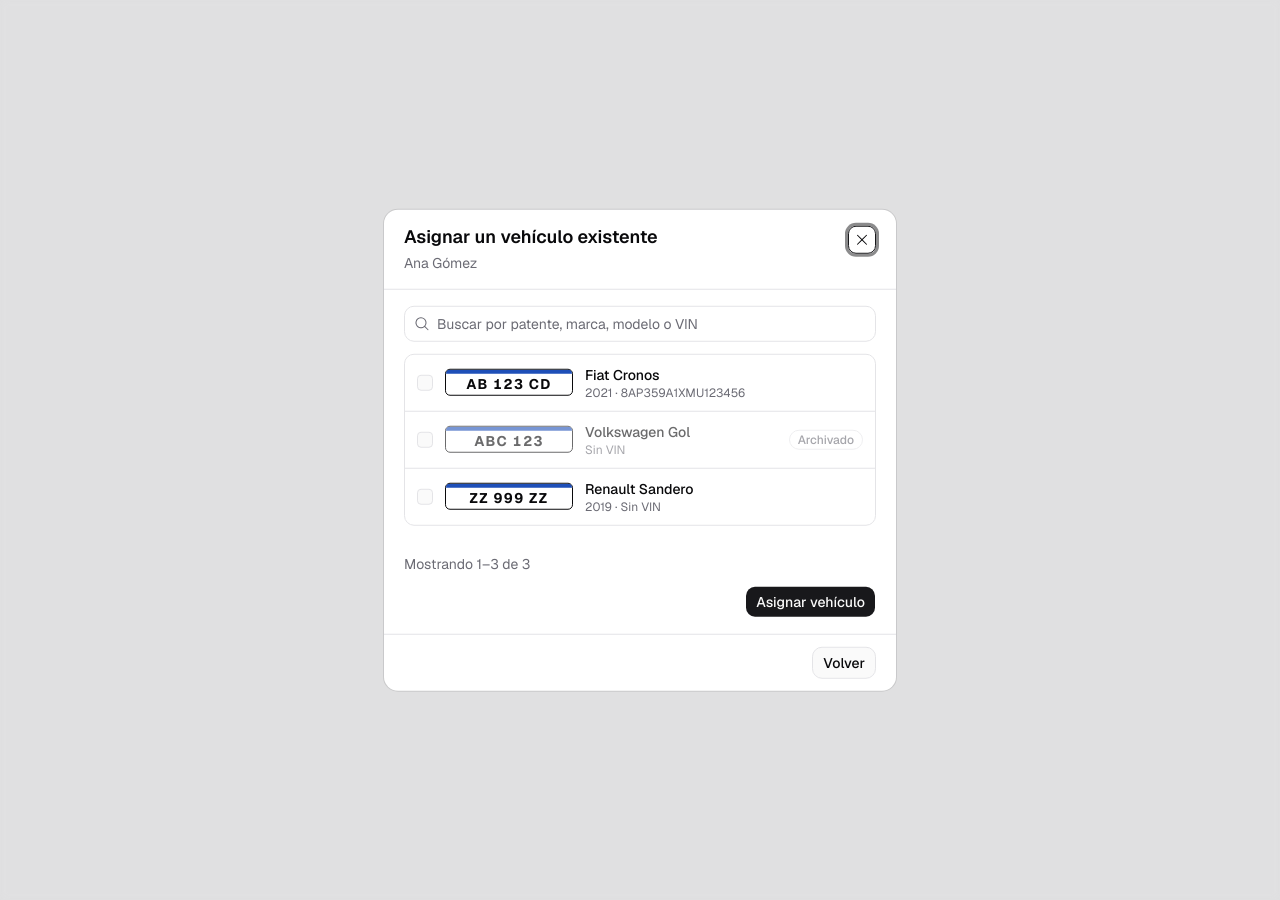
Test case: ClientModal: assign vehicles › assigns the rest and stays, with a message and a fresh list, when some already had a client
Click the checkbox named "AB 123 CD Fiat Cronos" next to "AB 123 CD" at x=425, y=382, box [417, 374, 433, 390]
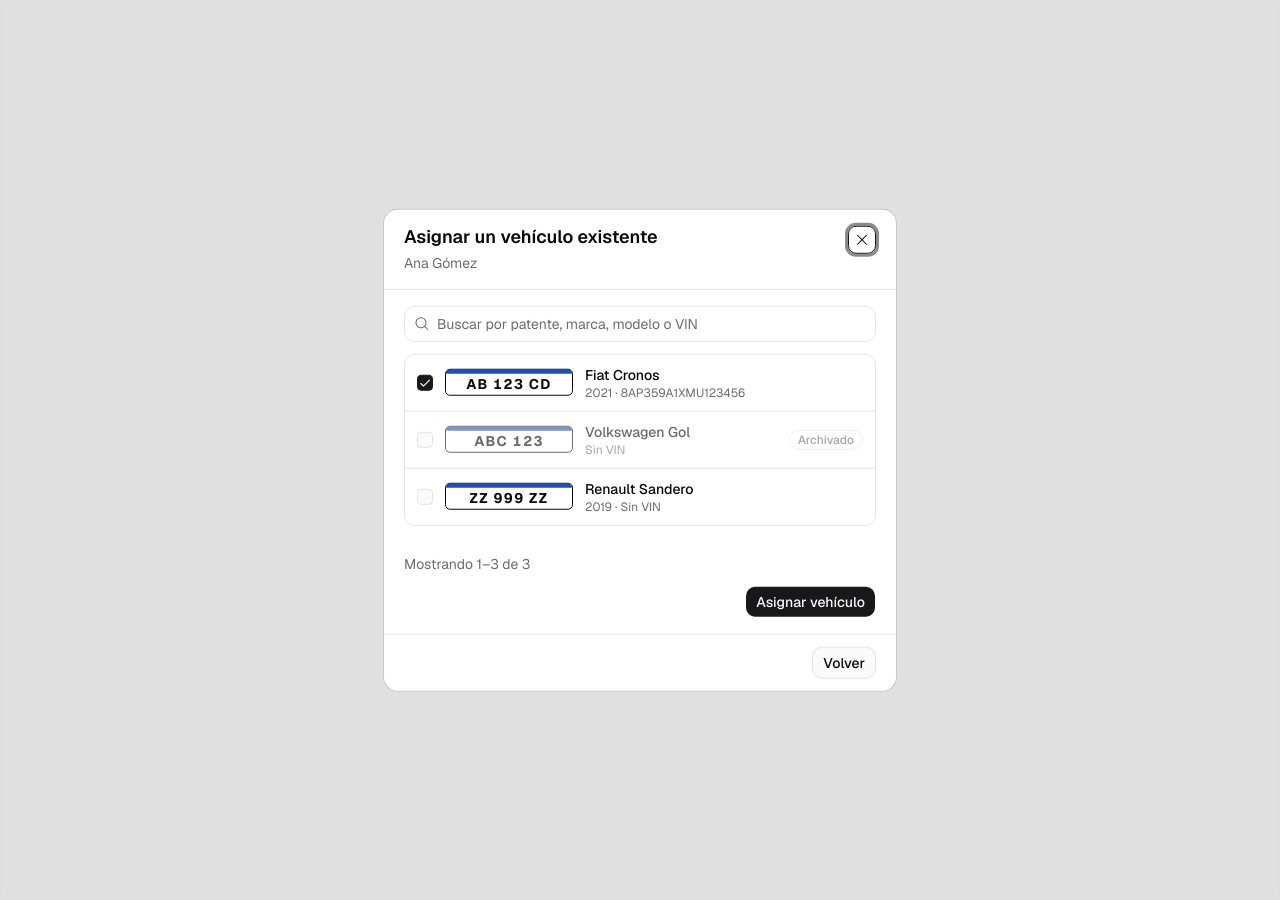
Click the checkbox named "ABC 123 Volkswagen Gol" next to "ABC 123" at x=425, y=439, box [417, 431, 433, 447]
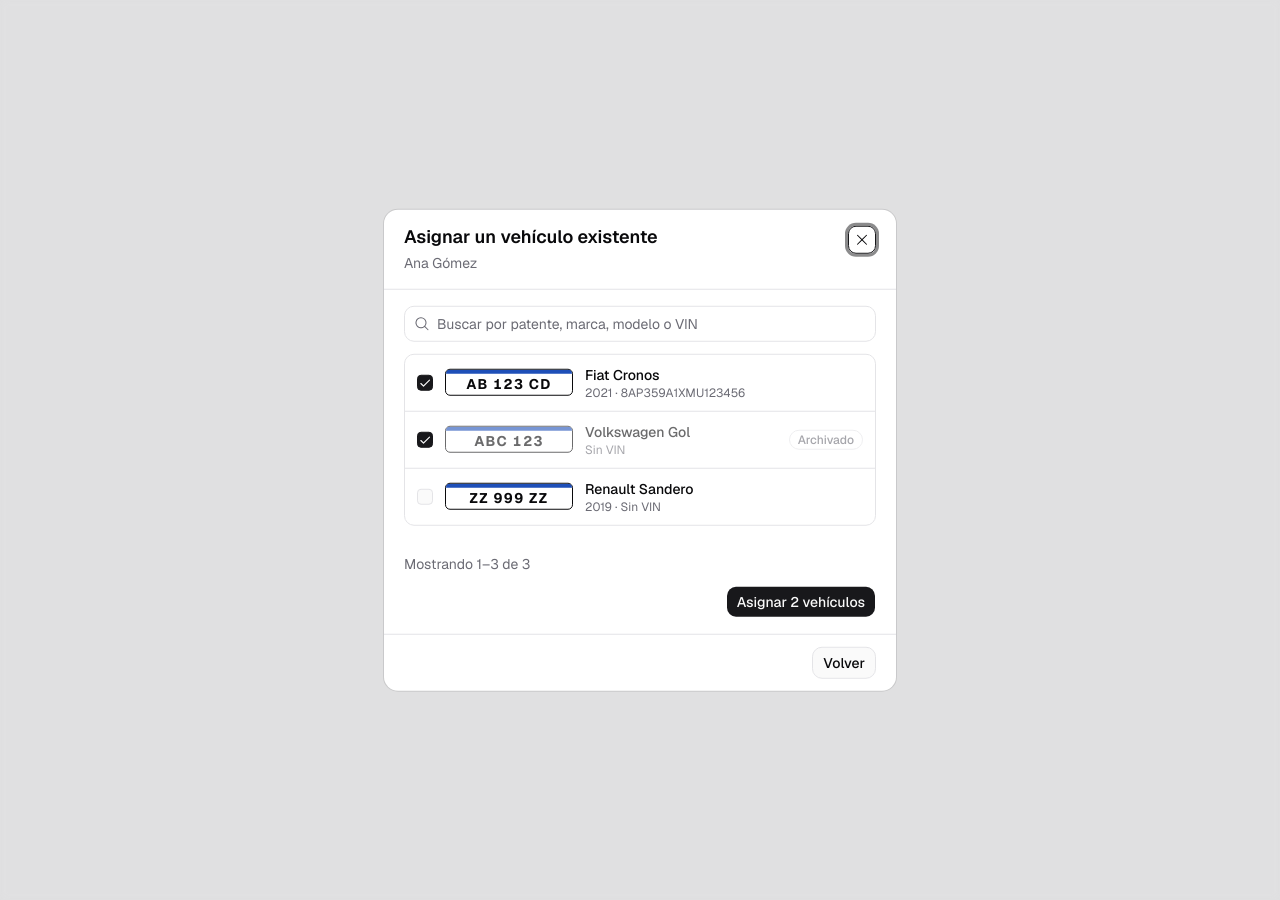
Click the button "Asignar 2 vehículos" at x=801, y=601, box [726, 585, 876, 617]
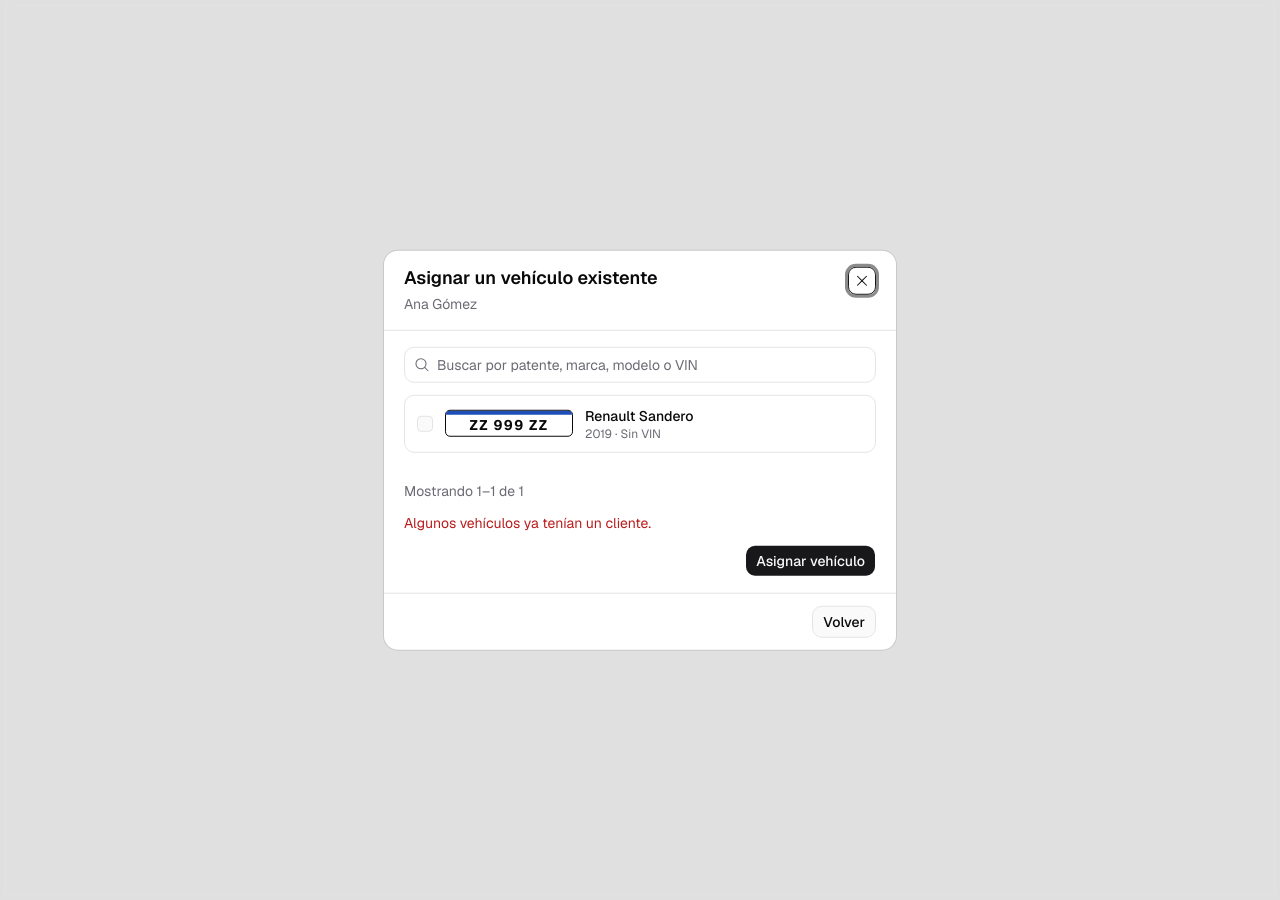
Expected: the checkbox named "ZZ 999 ZZ Renault Sandero" is shown, [417, 415, 433, 431]
Expected: the text "Algunos vehículos ya tenían un cliente." is shown, [404, 513, 651, 531]
Expected: the checkbox labelled "AB 123 CD Fiat Cronos" is gone
